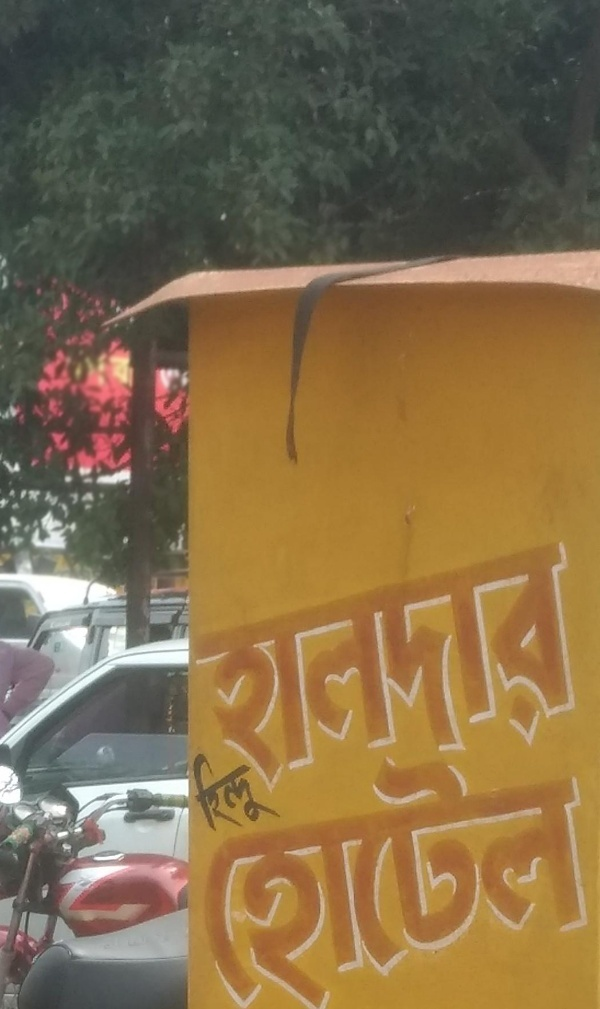text: (209, 706, 224, 1008), (225, 706, 240, 1008), (241, 706, 256, 1008), (257, 706, 272, 1008), (273, 706, 288, 1008), (289, 706, 304, 1008), (305, 706, 320, 1008), (321, 706, 336, 1008), (337, 706, 352, 1008), (353, 706, 368, 1008), (369, 706, 384, 1008), (385, 706, 400, 1008), (401, 706, 416, 1008), (417, 706, 432, 1008), (433, 706, 448, 1008), (449, 706, 464, 1008), (465, 706, 480, 1008), (481, 706, 496, 1008), (497, 706, 512, 1008), (513, 706, 528, 1008), (529, 706, 544, 1008), (545, 706, 560, 1008), (561, 706, 576, 1008), (577, 706, 592, 1008), (193, 539, 208, 808), (209, 539, 224, 808), (225, 539, 240, 808), (241, 539, 256, 808), (257, 539, 272, 808), (273, 539, 288, 808), (289, 539, 304, 808), (305, 539, 320, 808), (321, 539, 336, 808), (337, 539, 352, 808), (353, 539, 368, 808), (369, 539, 384, 808), (385, 539, 400, 808), (401, 539, 416, 808), (417, 539, 432, 808), (433, 539, 448, 808), (449, 539, 464, 808), (465, 539, 480, 808), (481, 539, 496, 808), (497, 539, 512, 808), (513, 539, 528, 808), (529, 539, 544, 808), (545, 539, 560, 808), (561, 539, 576, 808), (577, 539, 592, 808), (195, 706, 208, 1008), (183, 539, 192, 808), (593, 706, 598, 1008), (193, 745, 208, 836), (209, 745, 224, 836), (225, 745, 240, 836), (241, 745, 256, 836), (257, 745, 272, 836), (273, 745, 286, 836), (184, 745, 192, 836)
